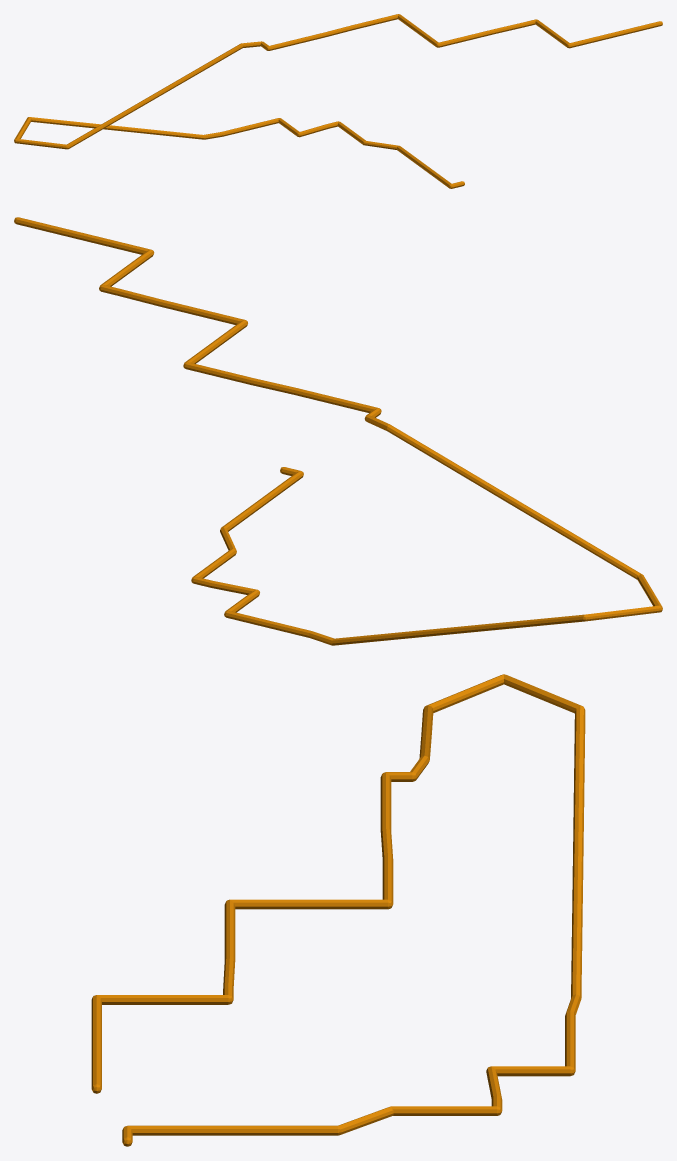
3 renders of one model, top to bottom at view 1: azimuth 30°, elevation 25°; view 2: azimuth 150°, elevation 25°; view 3: azimuth 270°, elevation 25°, orthographic. The views are drawn at different scales.
Bounding box in the file's own units: 2398 × 520 × 938.
